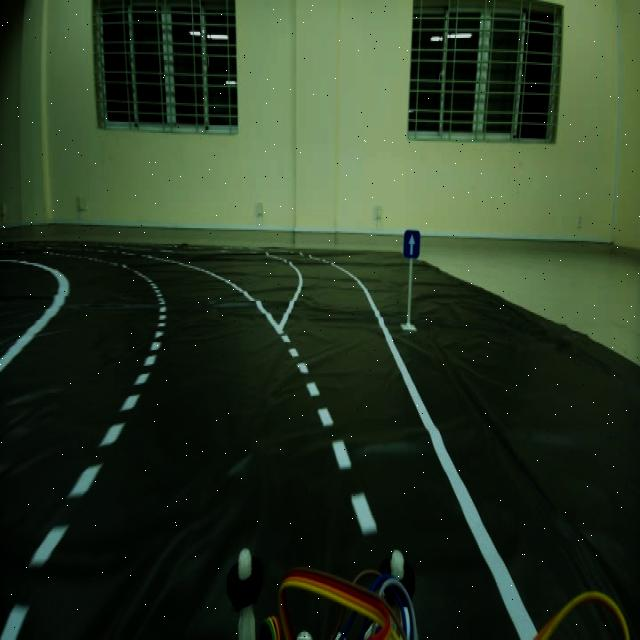onewayroad: (400, 225, 421, 263)
